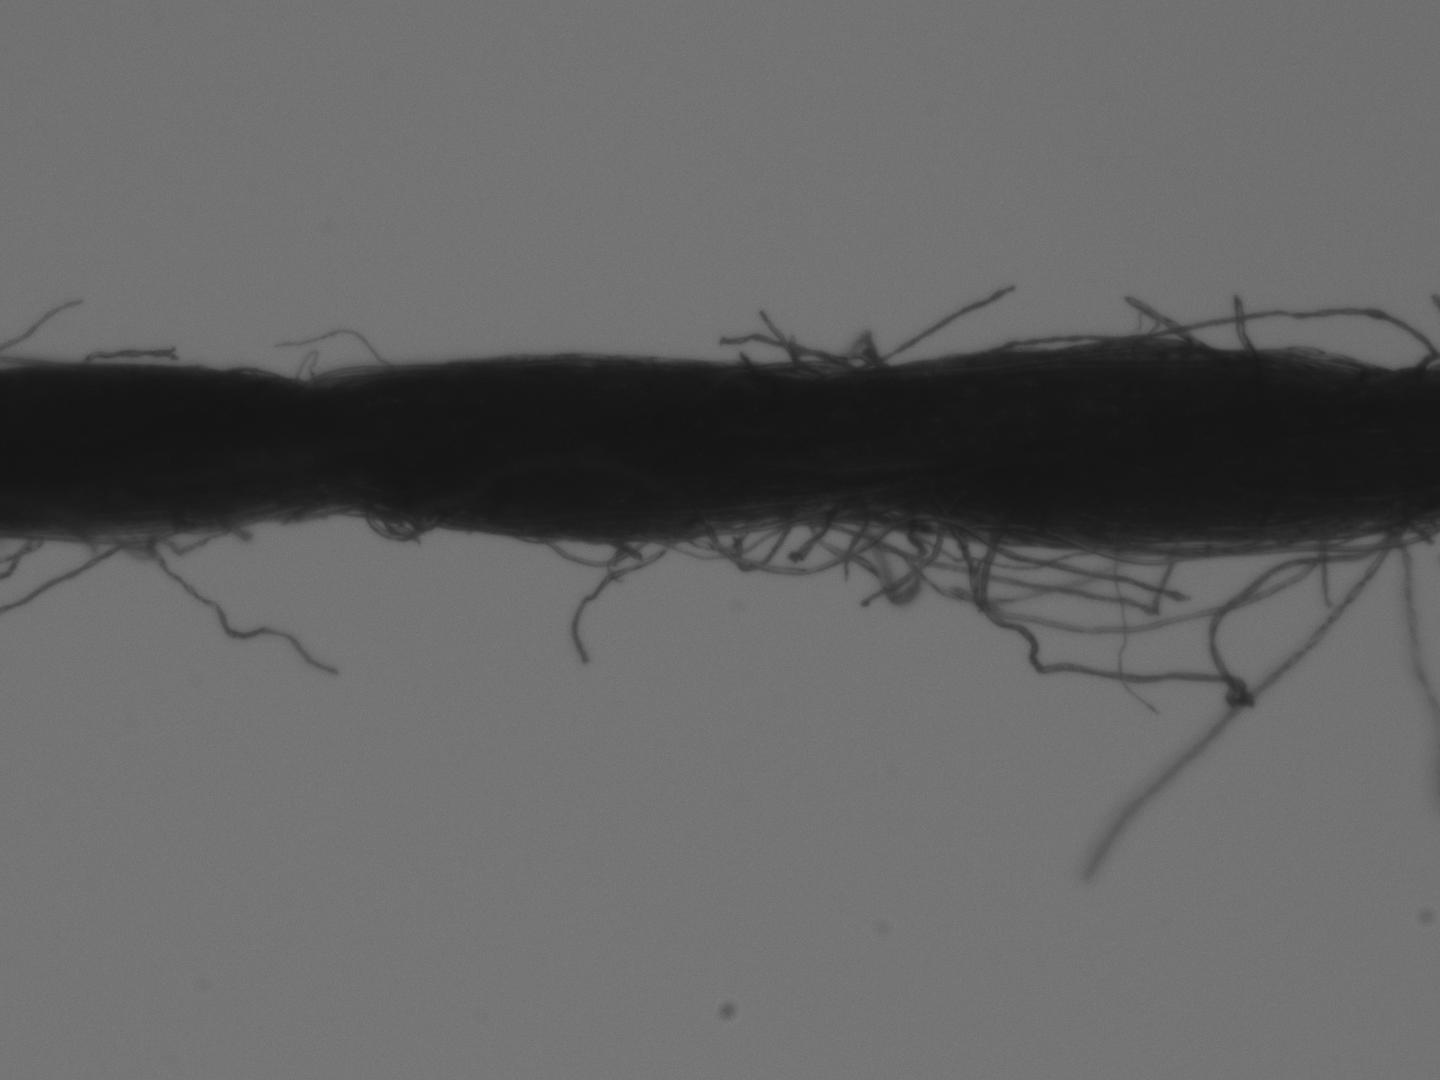loop_fiber: (945, 522, 1406, 707), (980, 524, 1331, 635), (1137, 305, 1433, 370), (805, 515, 943, 600), (711, 513, 901, 567), (646, 517, 788, 558), (706, 514, 789, 571), (105, 528, 218, 559), (532, 535, 636, 566), (356, 507, 446, 541), (990, 332, 1116, 352)
protruding_fiber: (1087, 531, 1391, 876), (150, 552, 341, 680), (845, 280, 1017, 374), (570, 534, 687, 665), (0, 297, 78, 349), (720, 331, 833, 366), (74, 348, 178, 363), (1235, 293, 1251, 349)
